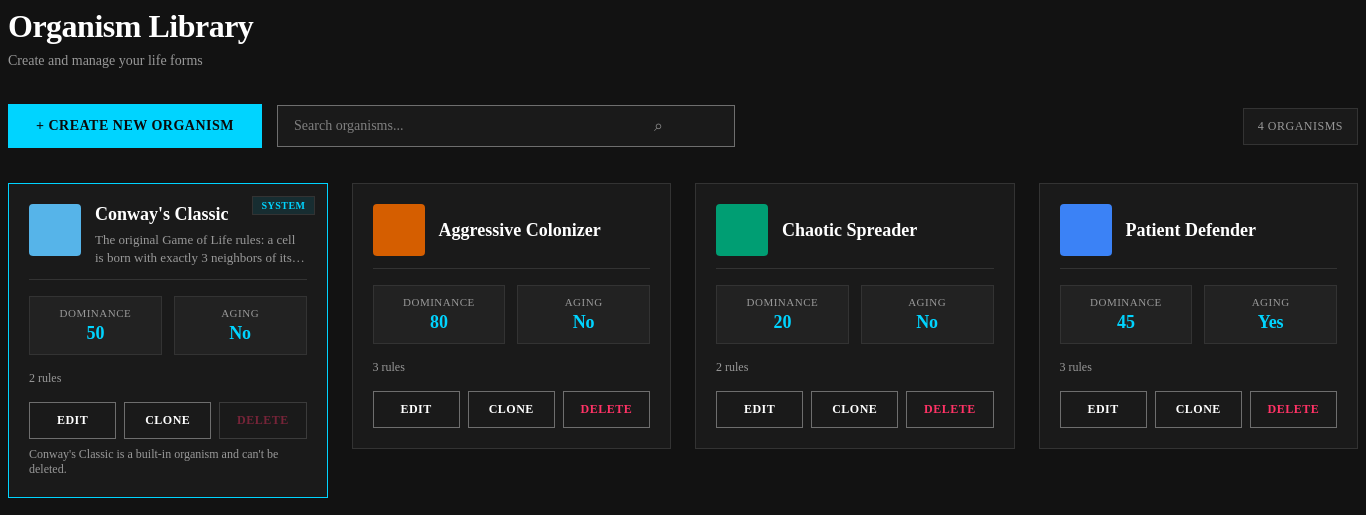
OrganismLibrary › filters the grid live by name, updating the count badge, and clearing restores it
This screenshot has width=1366, height=515.
Check: the number of list items is 4, box [8, 183, 328, 498]; [352, 183, 671, 498]; [695, 183, 1014, 498]; [1038, 183, 1358, 498]
Type "pat" into the field labelled "Search organisms". click: (506, 126)
box: [277, 105, 735, 147]
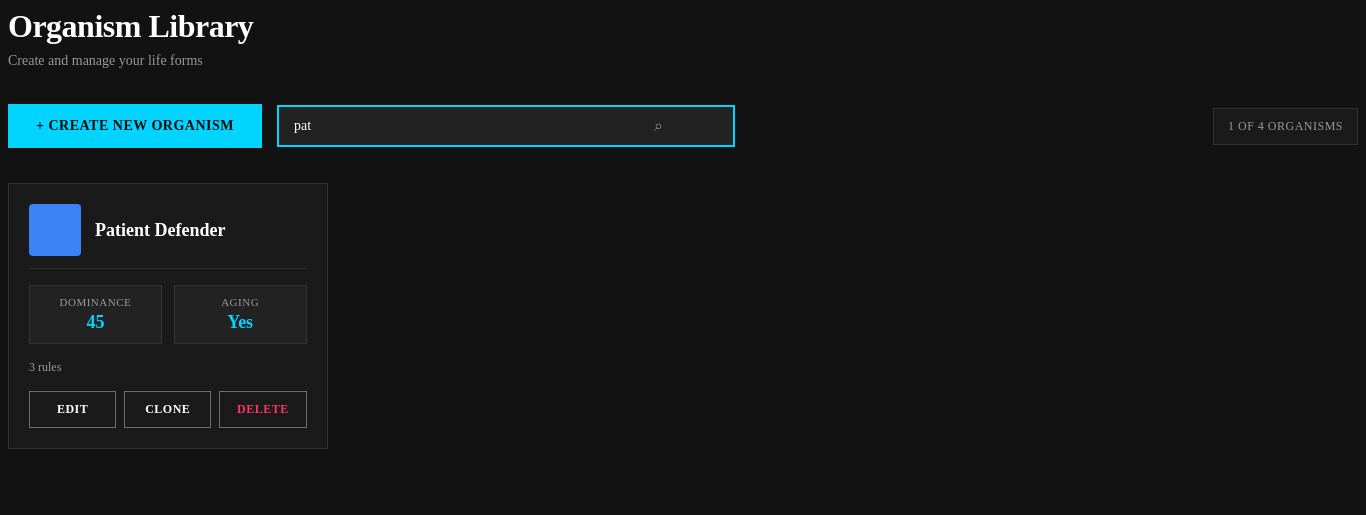
Check: the heading "Patient Defender" is shown, box [95, 220, 226, 240]
Check: the number of list items is 1, box [8, 183, 328, 449]
Check: the message "1 of 4 Organisms" is shown, box [1213, 108, 1358, 144]
Clear the field named "Search organisms". click: (506, 126)
box: [277, 105, 735, 147]
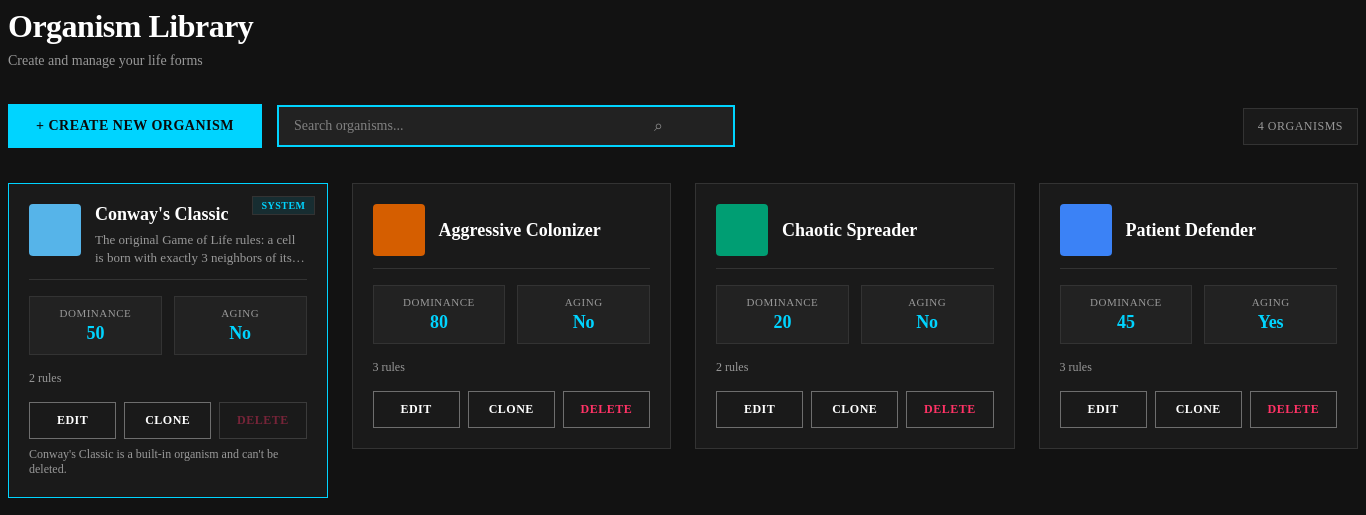
Check: the number of list items is 4, box [8, 183, 328, 498]; [352, 183, 671, 498]; [695, 183, 1014, 498]; [1038, 183, 1358, 498]
Check: the message "4 Organisms" is shown, box [1243, 108, 1358, 144]
